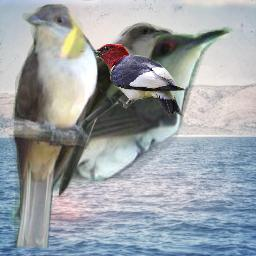Cuckoo: (10, 27, 234, 228), (9, 4, 98, 248), (53, 21, 173, 200)
Woodpecker: (80, 44, 185, 119)
